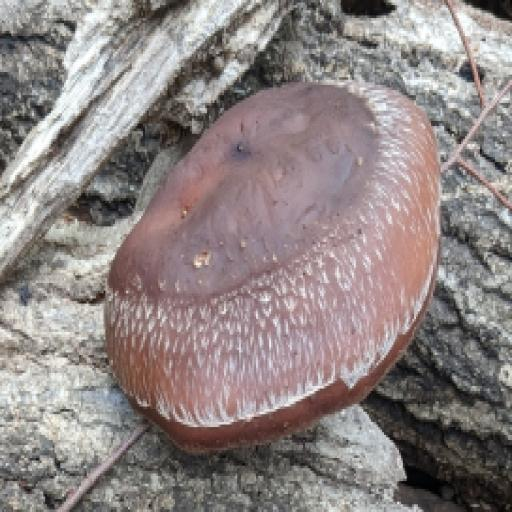Shiitake Mushroom: (84, 33, 482, 480)
